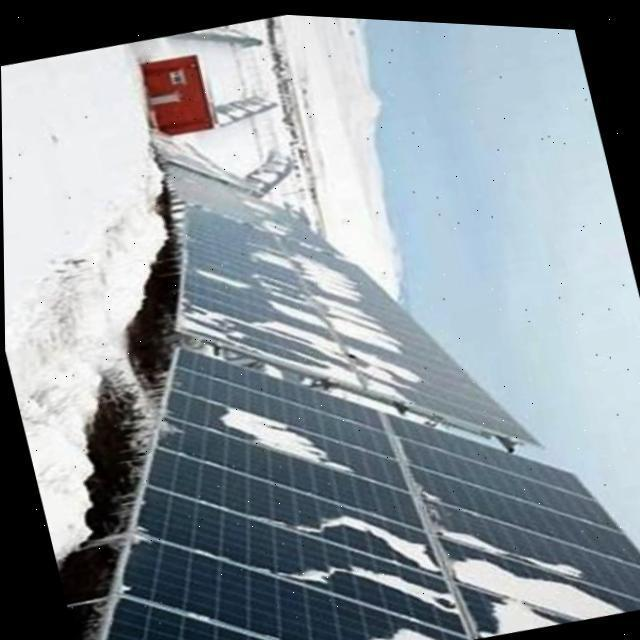Anomaly Solar Panel: (98, 342, 640, 640), (172, 197, 543, 443)
Normal Solar Panel: (392, 432, 619, 525), (384, 408, 592, 493)
Snow: (245, 305, 421, 405), (262, 489, 448, 569), (261, 268, 415, 358), (215, 391, 366, 476), (448, 546, 640, 612), (277, 543, 462, 611), (244, 229, 369, 302), (173, 292, 267, 351), (473, 589, 567, 633), (320, 617, 481, 640), (193, 255, 251, 295), (360, 371, 412, 402)
